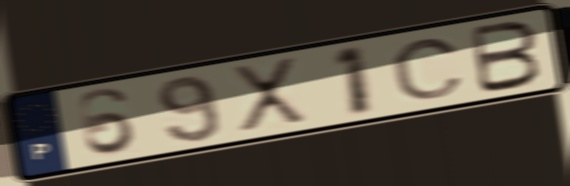1: (331, 42, 381, 119)
6: (76, 86, 138, 159)
9: (152, 73, 226, 145)
B: (468, 17, 545, 97)
C: (388, 36, 469, 103)
X: (228, 54, 312, 135)
